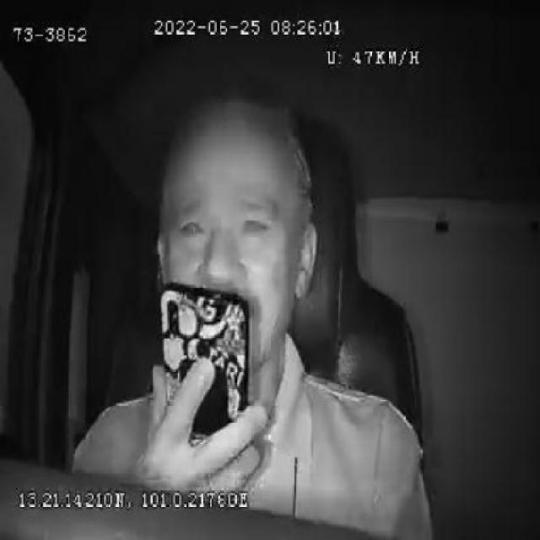phone: (160, 283, 251, 465)
